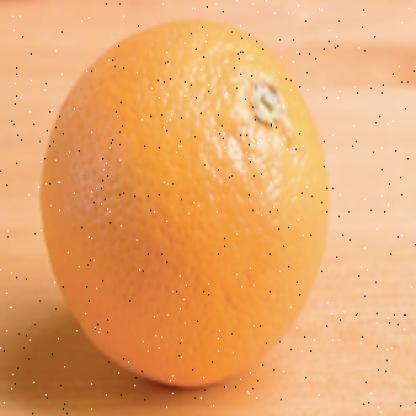fresh: (41, 21, 327, 392)
